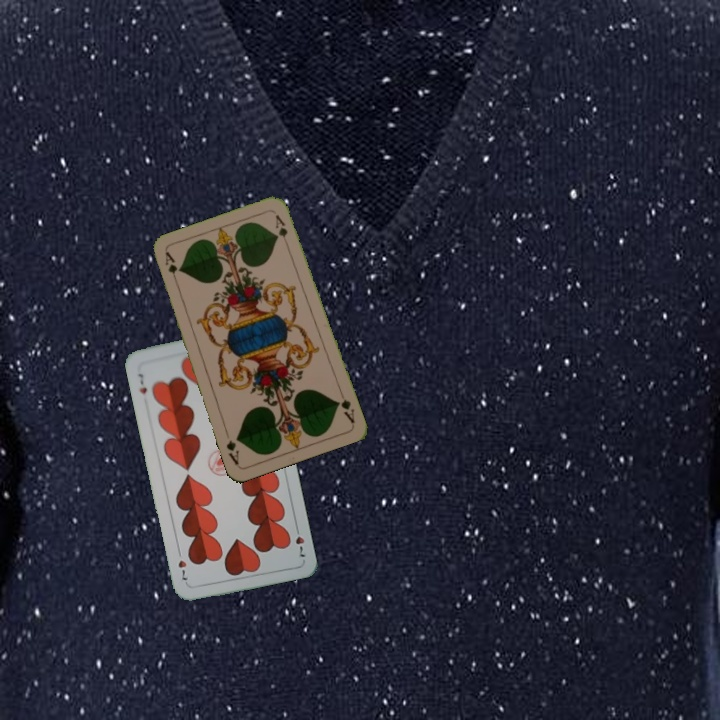GA: (333, 387, 357, 426), (161, 248, 181, 288)
H7: (291, 521, 308, 561), (134, 369, 149, 396)
